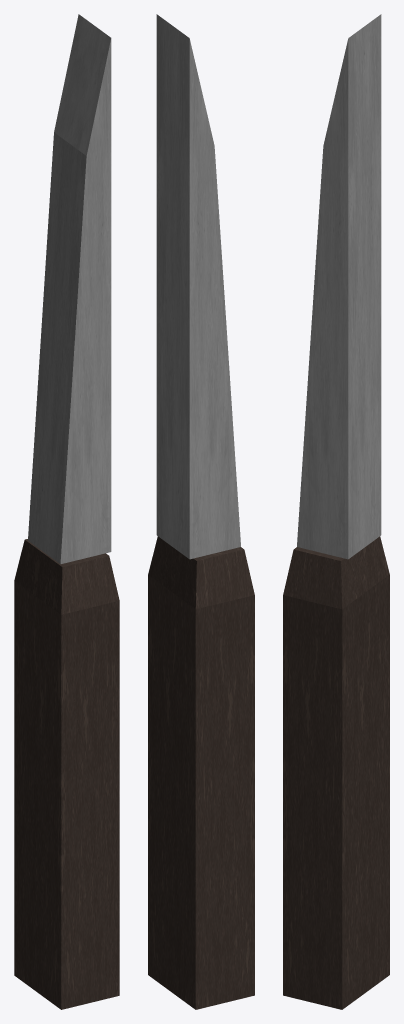
3 views of the same model, side by side, from view 1: azimuth 30°, elevation 25°; view 2: azimuth 210°, elevation 25°; view 3: azimuth 330°, elevation 25° (orthographic).
Visible parts, largest first — view 1: Cube, Cube.001; view 2: Cube, Cube.001; view 3: Cube, Cube.001.
Part boxes in pixels (x1,y1,x2,y2): Cube: [14, 539, 119, 1009]; Cube.001: [28, 14, 111, 564]; Cube: [148, 536, 254, 1009]; Cube.001: [156, 14, 240, 559]; Cube: [283, 536, 389, 1009]; Cube.001: [297, 14, 381, 559].
Bounding box in the file's own units: 0.2786 × 4.35 × 0.3893.
Materials: 2 (2 with a texture image).
